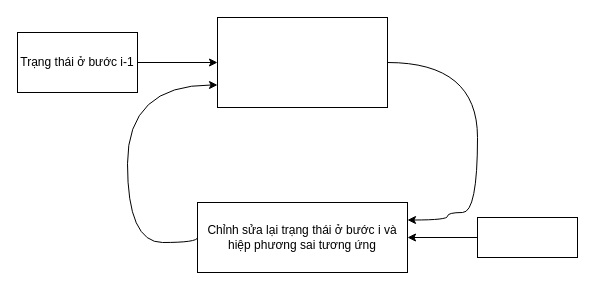
The diagram is 595 pixels wide and 290 high, and some of its shapes have lost their labels. The centre of each missing label's shape, as x and y in pixels:
Dự đoán trạng thái ở bước i và hiệp phương sai tương ứng: the point at 302,62
Quan sát ở bước i: the point at 527,237
